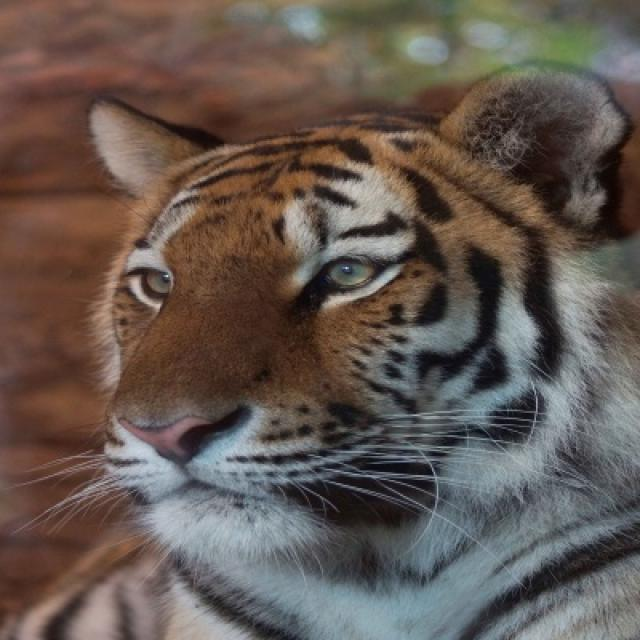Tiger: (92, 112, 604, 585)
